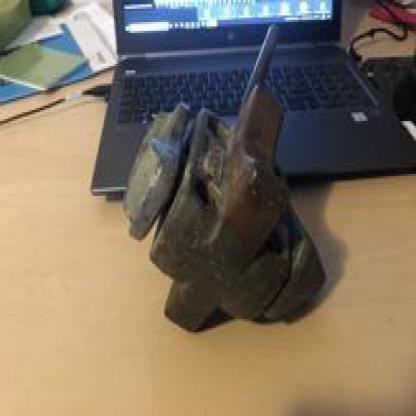Twistlock: (107, 13, 338, 343)
